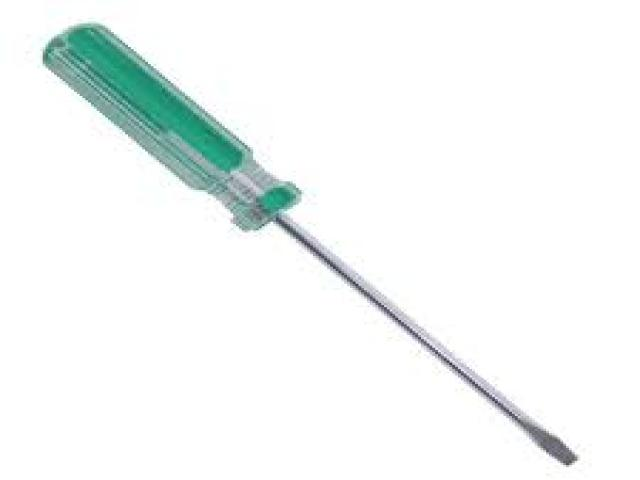Screwdriver: (44, 24, 578, 465)
